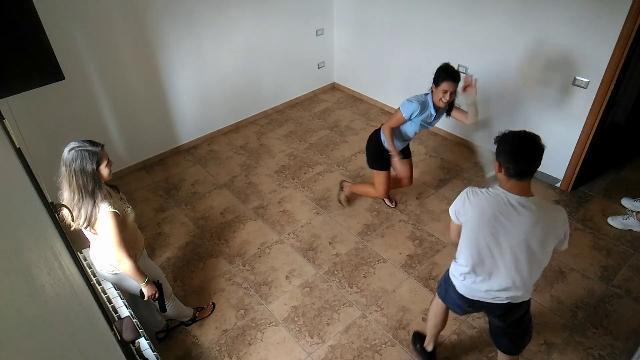violence: (339, 63, 571, 360), (59, 142, 217, 329)
